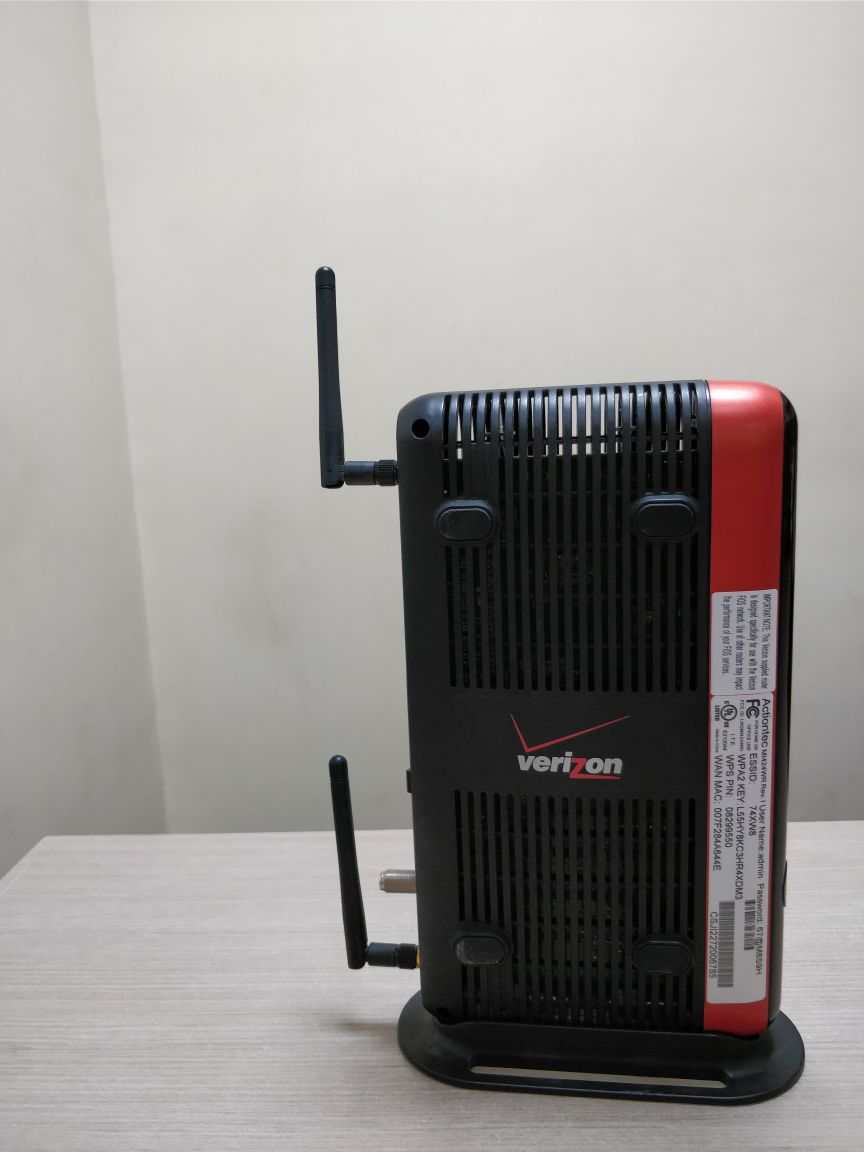Verizon Router: (300, 252, 826, 1113)
